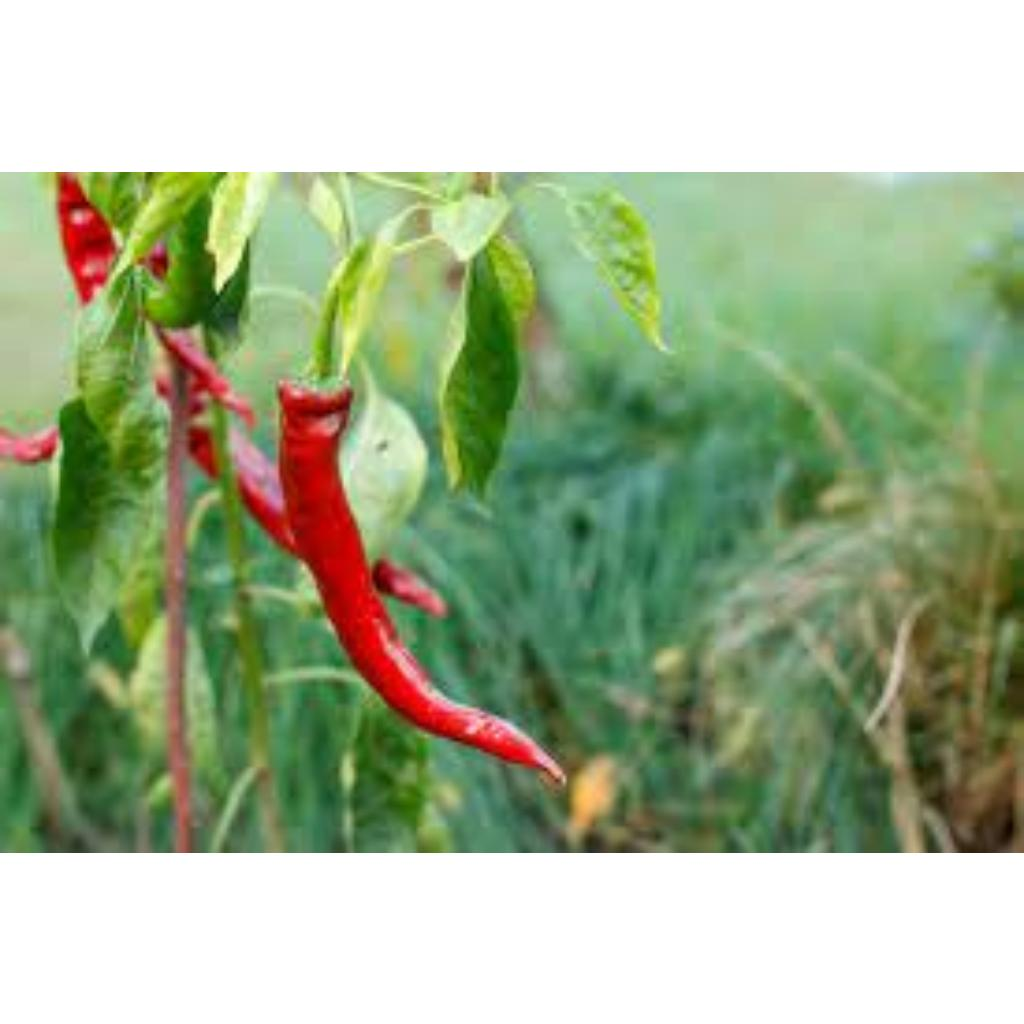chili: (278, 379, 564, 782)
